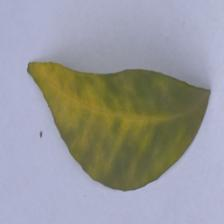greening: (21, 54, 157, 164)
